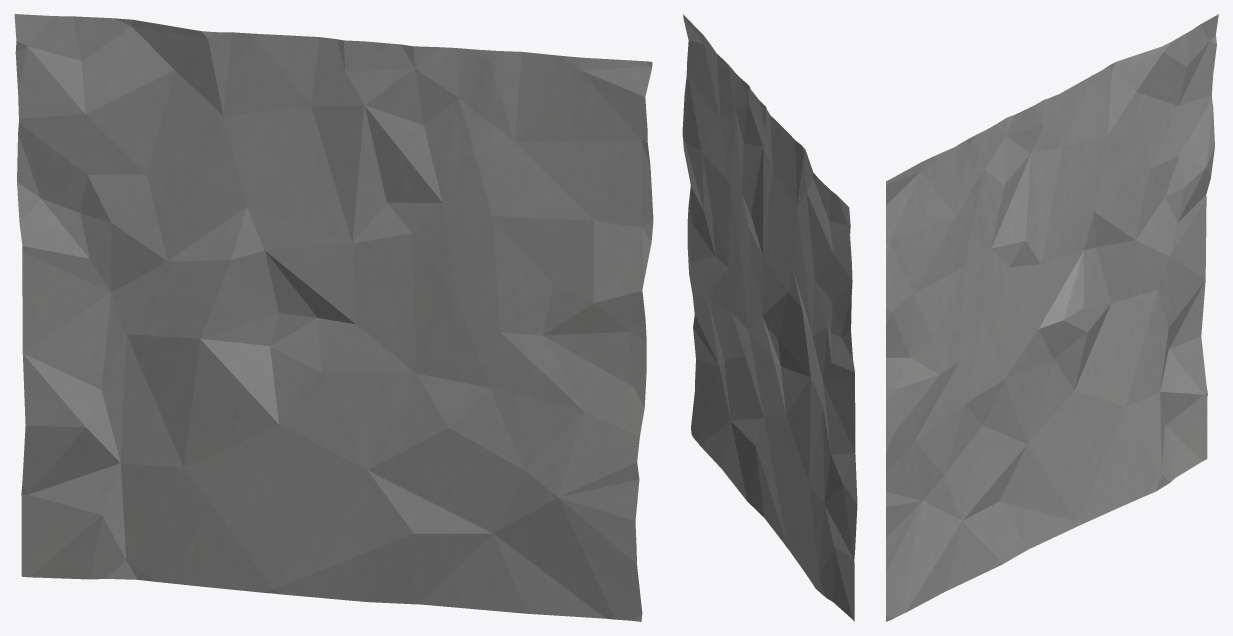
3 views of the same model, side by side, from view 1: azimuth 30°, elevation 25°; view 2: azimuth 150°, elevation 25°; view 3: azimuth 270°, elevation 25° (orthographic). The views are drawn at different scales.
Size of the model in its own units: 0.6767 by 0.8373 by 0.5678.
3 materials, 3 textured.
